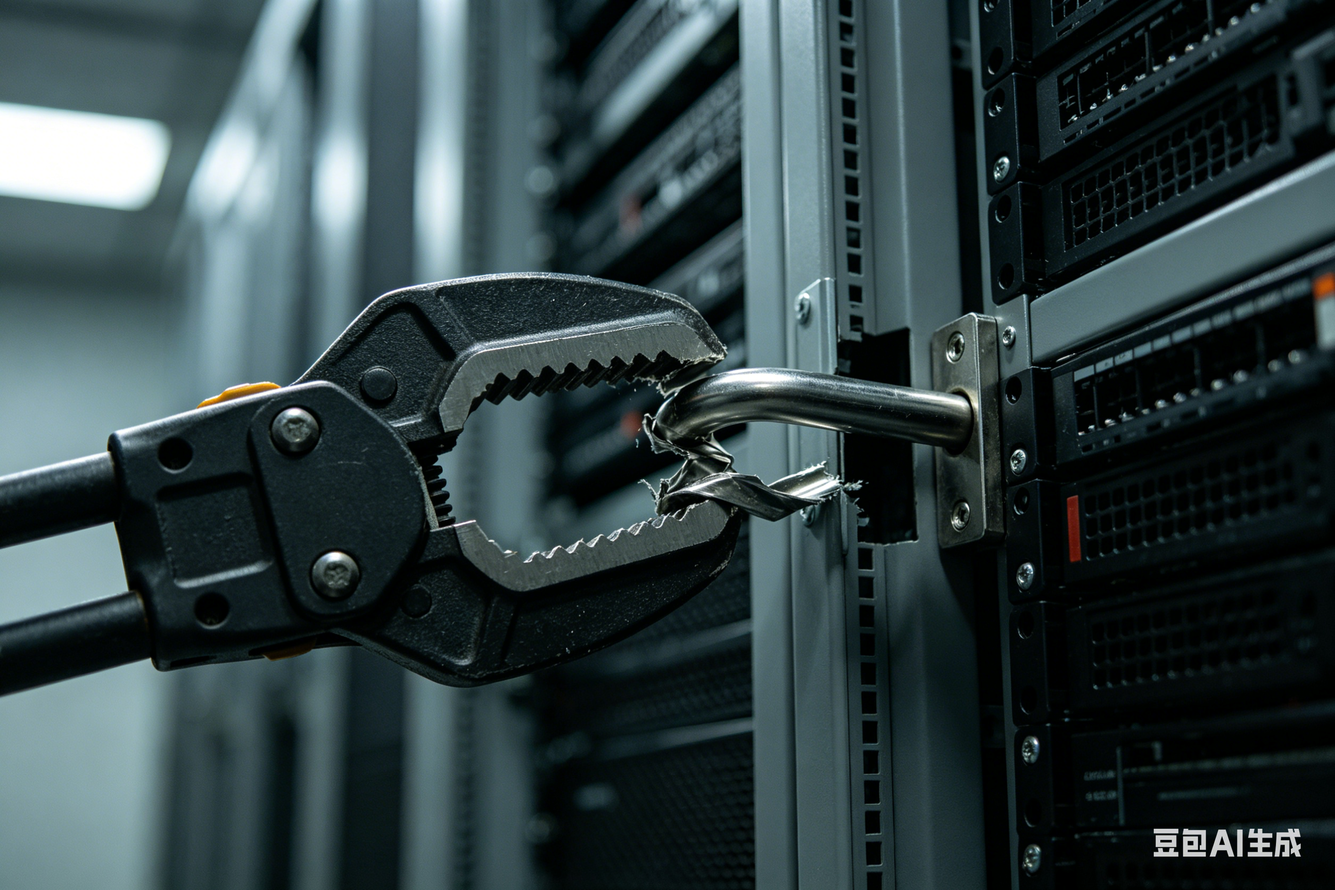BadLock: (630, 364, 958, 532)
